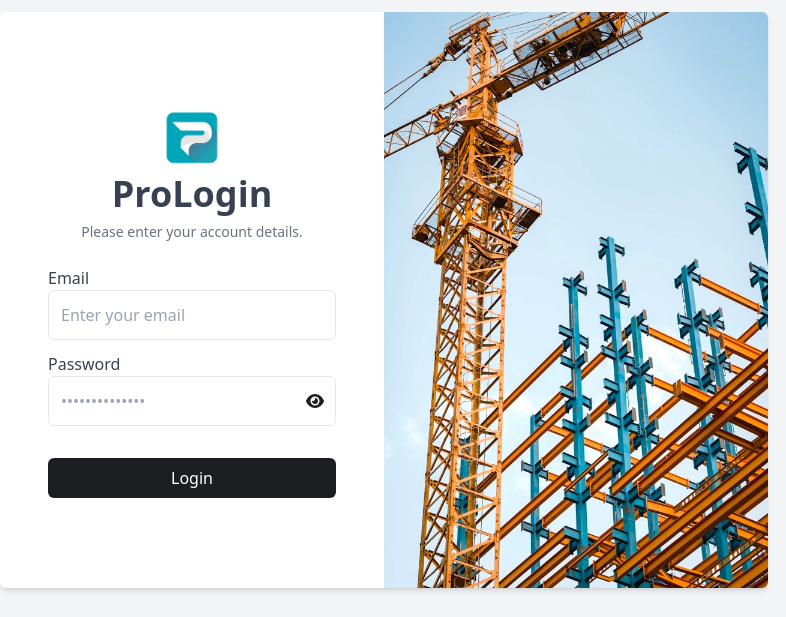
Test: <LoginForm/> › should alert user if login failed
Type "test@gmail.com" into the field with placeholder "Enter your email" at (192, 315), box [48,290,336,340]
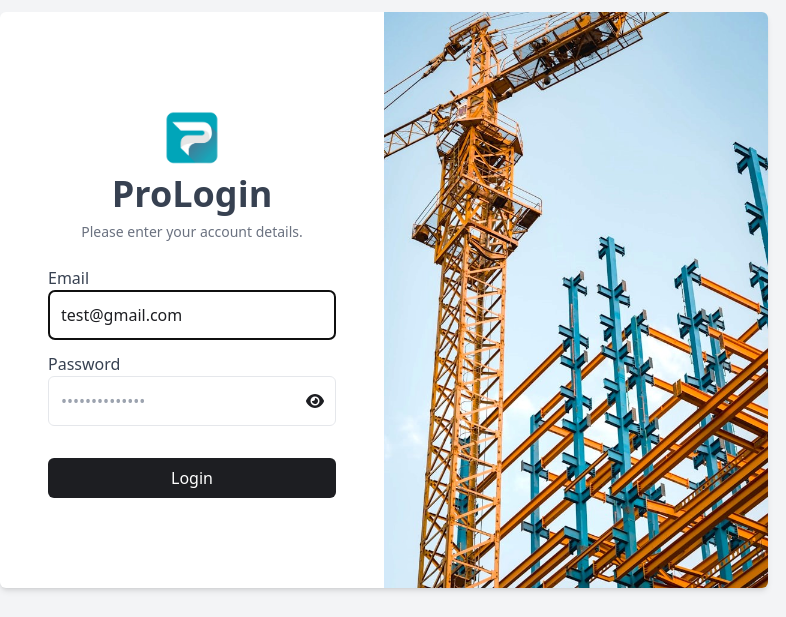
Type "test23232" into the password field with placeholder "••••••••••••••" at (192, 401), box [48,376,336,426]
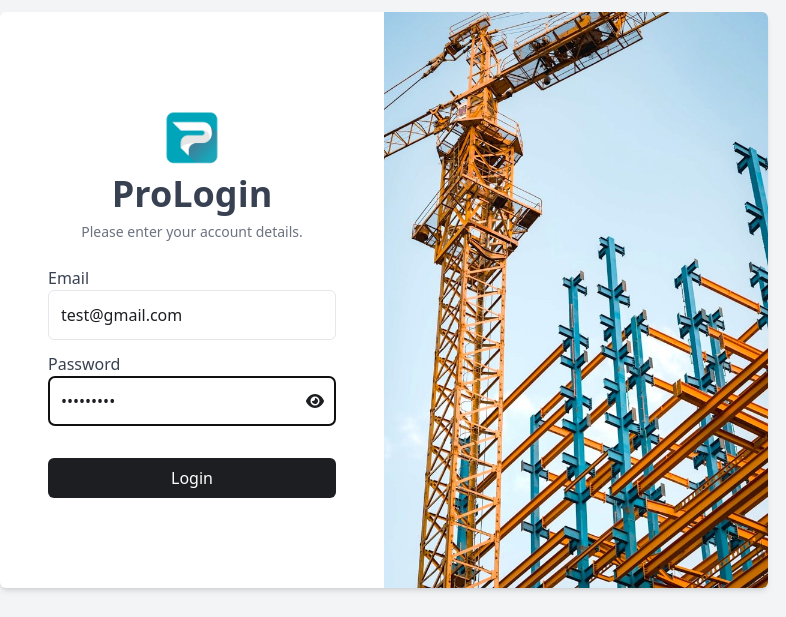
Click the button "Login" at (192, 478), box [48,458,336,498]
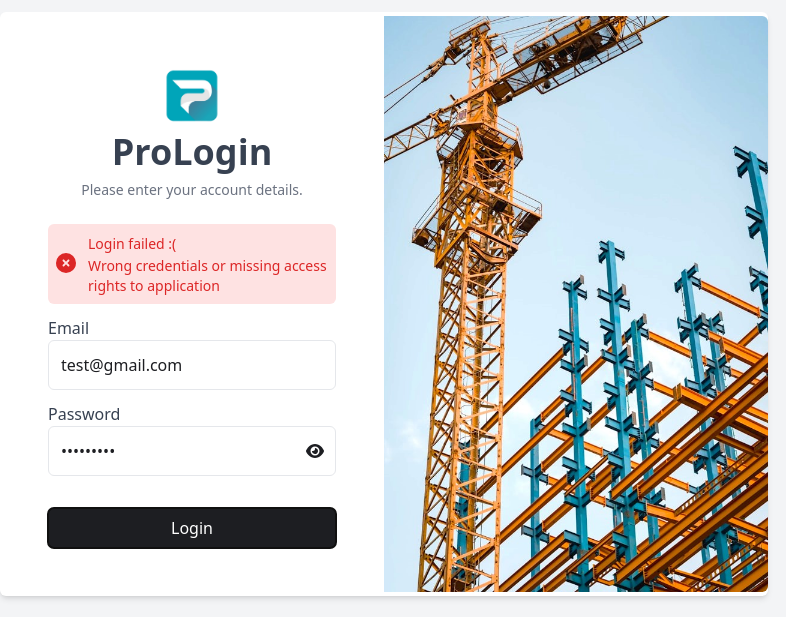
Check: the text "Login failed :(" is shown, box [88,234,176,253]
